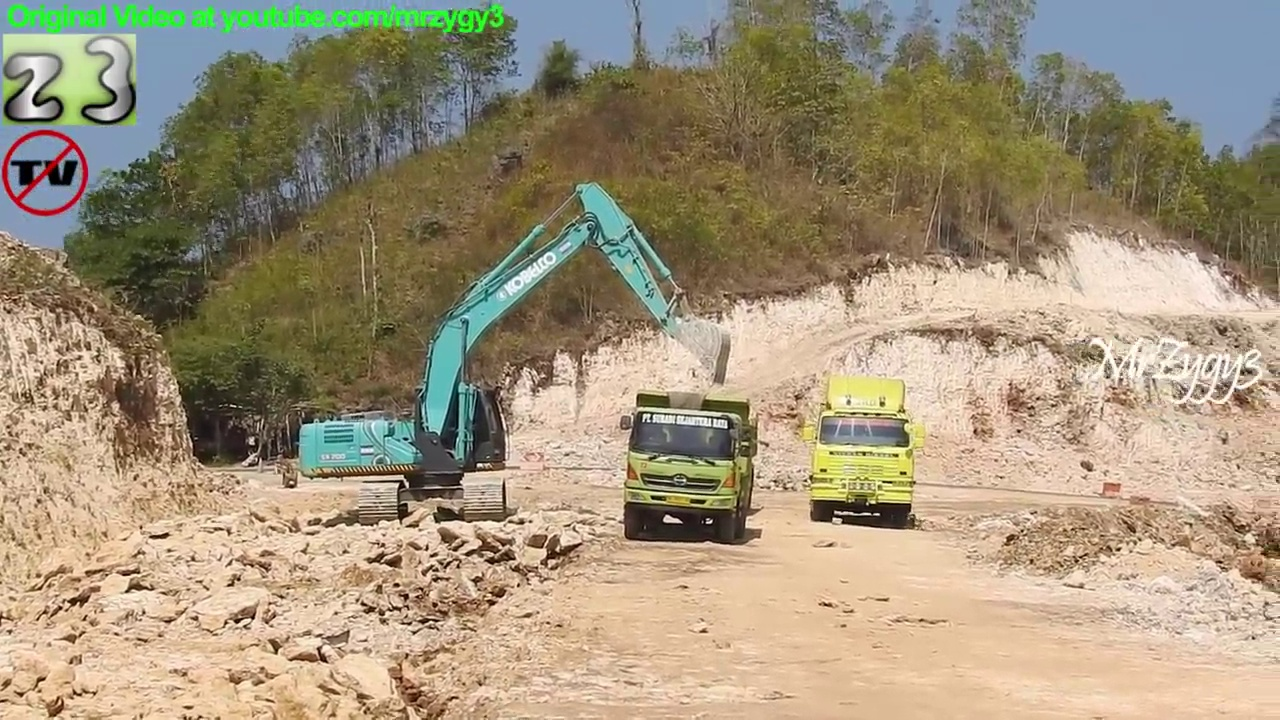excavator: (292, 178, 734, 531)
truck: (617, 383, 764, 550), (800, 372, 927, 536)
